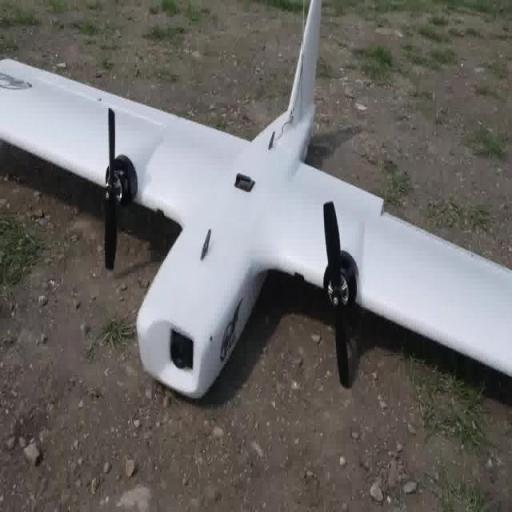uav: (0, 2, 512, 409)
